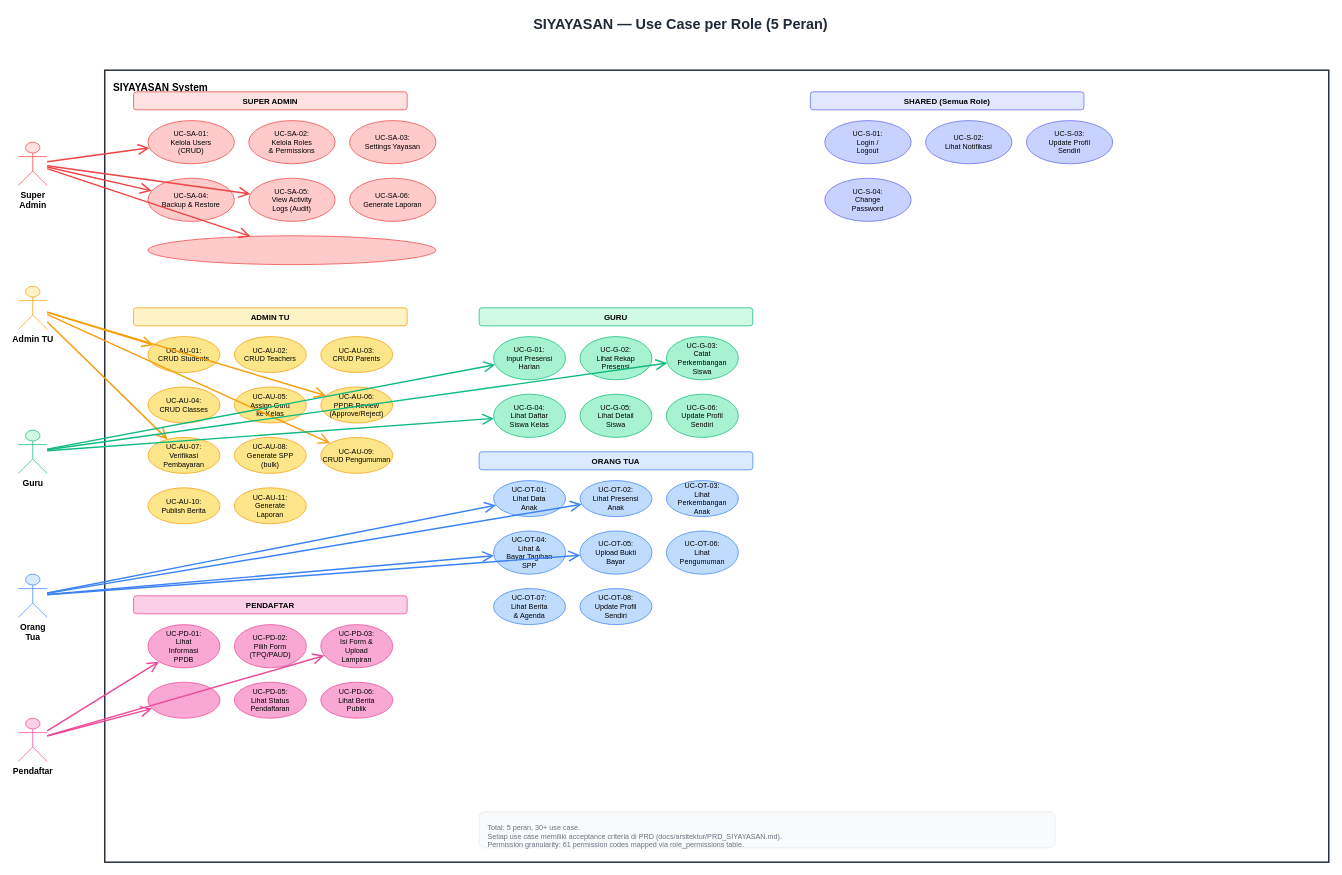
The diagram is 1342 pixels wide and 875 high, and some of its shapes have lost their labels. Each missing label, with the centre of its shape:
UC-PD-04: Submit Pendaftaran: [183,699]
UC-SA-07: Full Access Semua Modul: [291,250]
